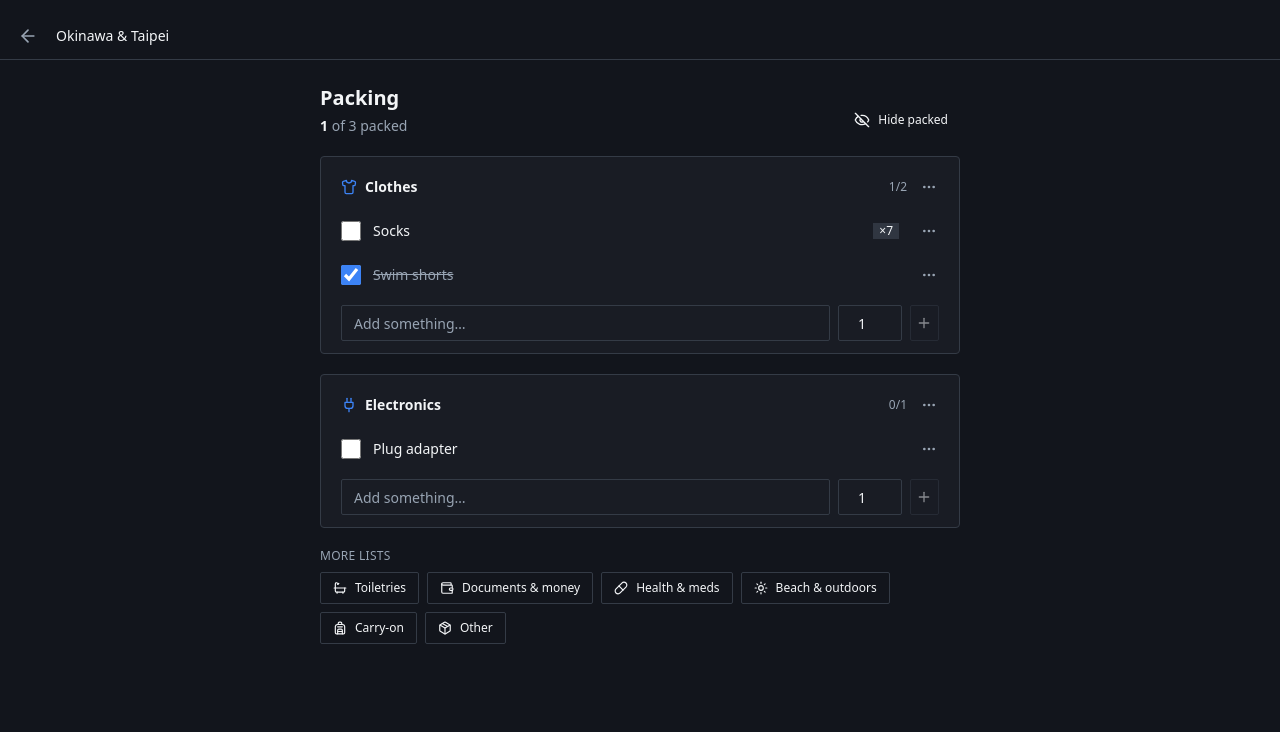
the Packing page › adds to a list, with how many
Replace the text in the number field named "How many, for Electronics" with "3" at (870, 497), box [838,479,902,515]
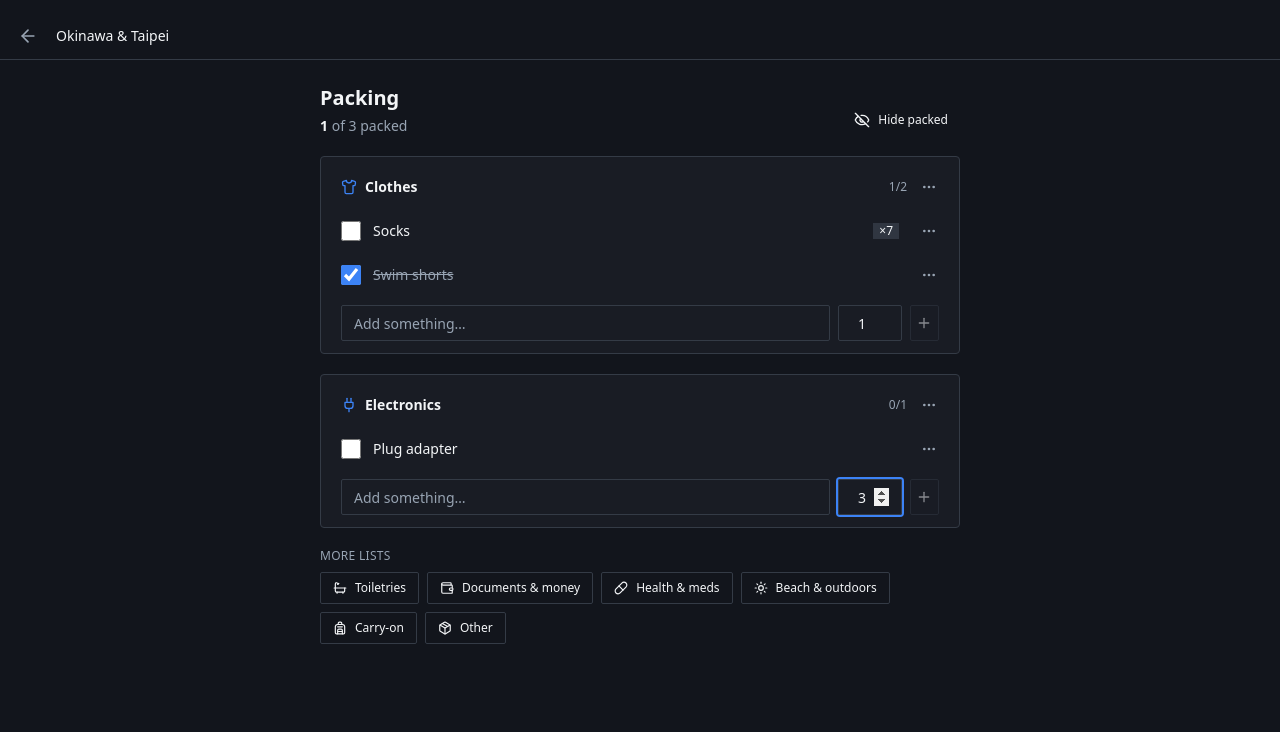
Type "Cables" into the field named "Add to Electronics" at (585, 497), box [341,479,830,515]
Then press Enter
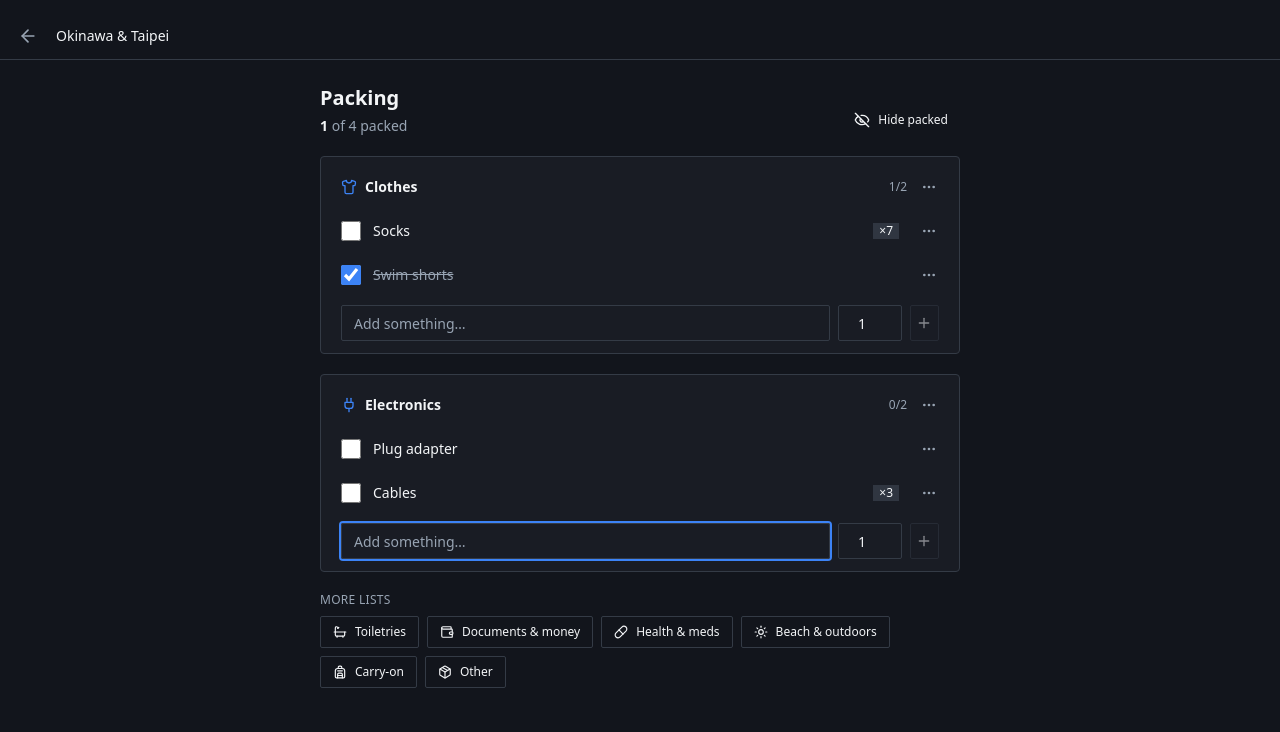
Expected: the field named "Add to Electronics" is empty, [341,523,830,559]
Expected: the checkbox labelled "Cables ×3" is shown, [341,483,361,503]
Expected: the number field named "How many, for Electronics" holds "1", [838,523,902,559]
